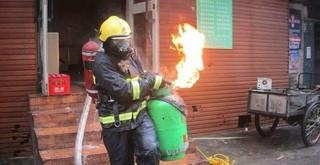fire: (169, 19, 206, 89)
